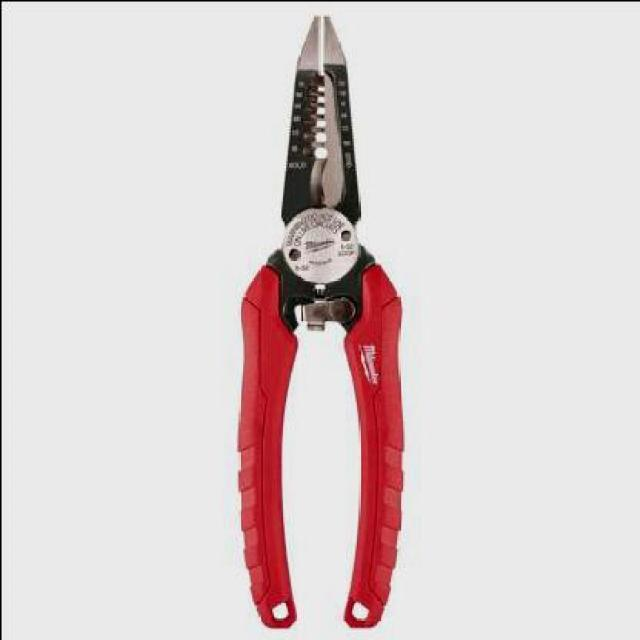pliers: (222, 11, 416, 624)
